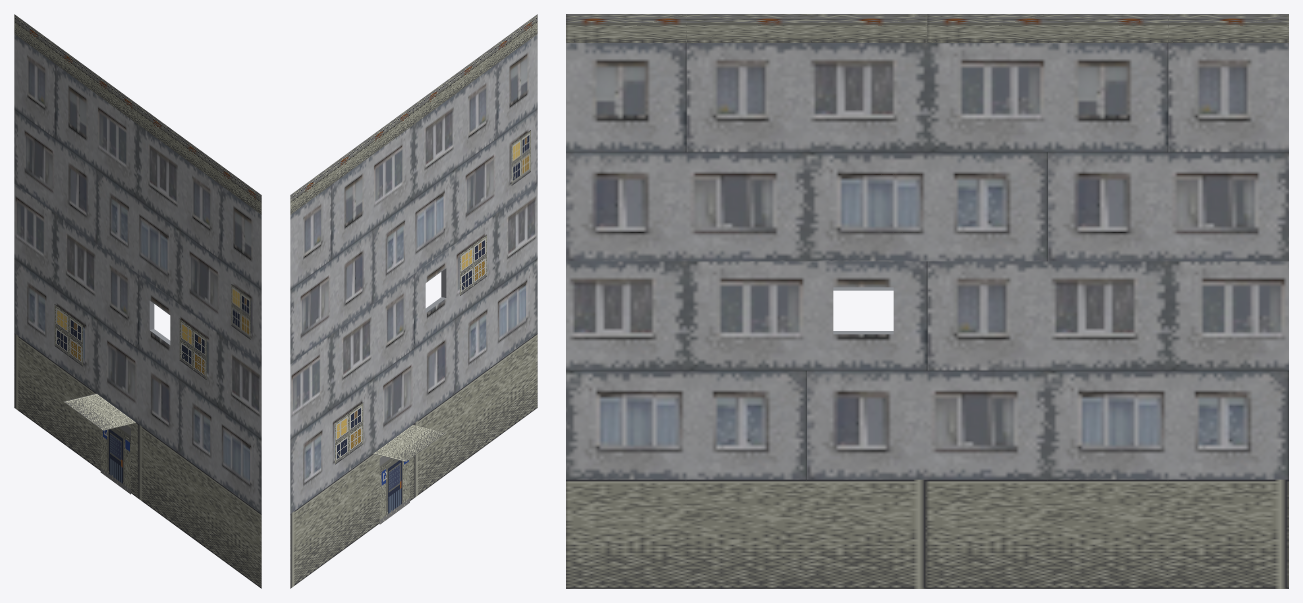
Rendered from house.glb.
3 renders of one model, left to right at view 1: azimuth 30°, elevation 25°; view 2: azimuth 150°, elevation 25°; view 3: azimuth 270°, elevation 25°, orthographic. The views are drawn at different scales.
Parts seen in each view (by area): view 1: house; view 2: house; view 3: house.
Boxes of the visible parts, x1,y1,x2,y2 form: house: [14, 14, 261, 588]; house: [290, 14, 537, 588]; house: [566, 14, 1288, 588].
Size of the model in its own units: 1.6 by 15.8 by 18.
Materials: 2 (2 with a texture image).
